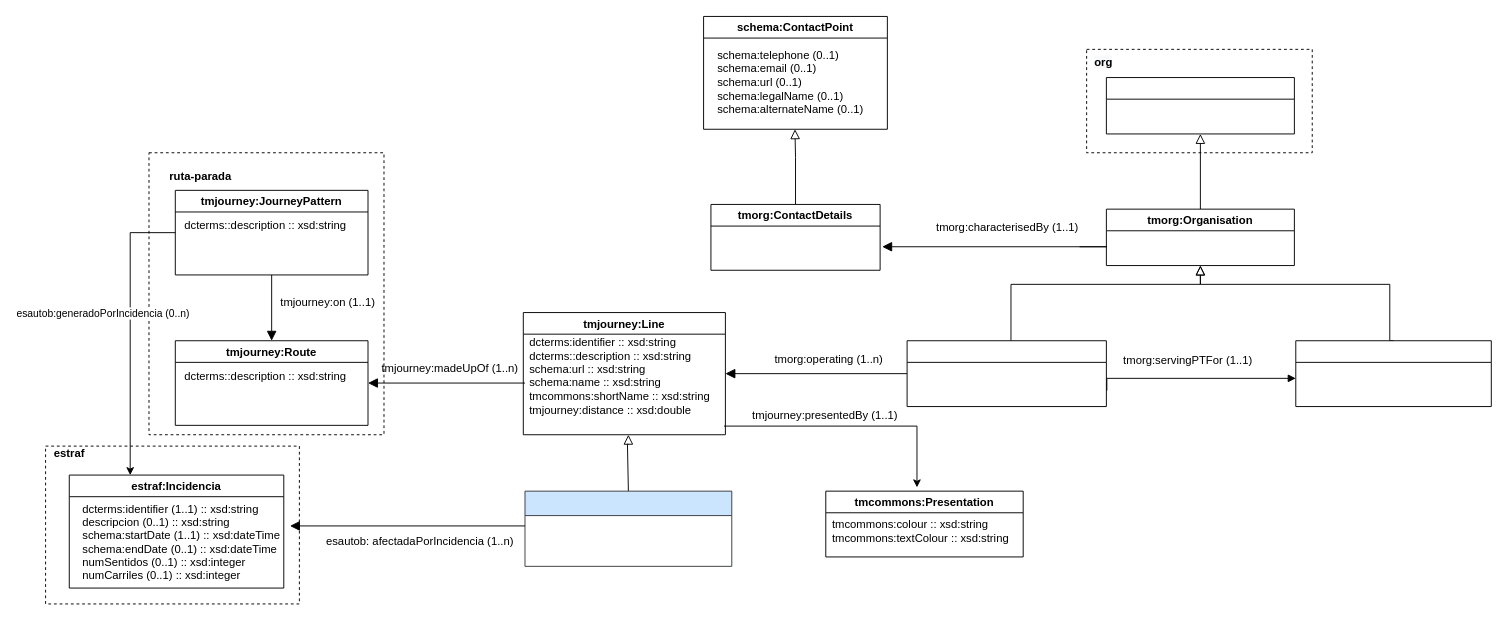
Some shapes in this 1508 by 620 pixel diagram are drawn without their labels. The shapes that lost their labels are listed below. From the top down, each one's centre as x and y in pixels, then its label:
point 1199,105: org:Organization
point 1006,373: tmorg:Operator
point 1393,373: tmorg:Authority
point 628,528: esautob:Linea
